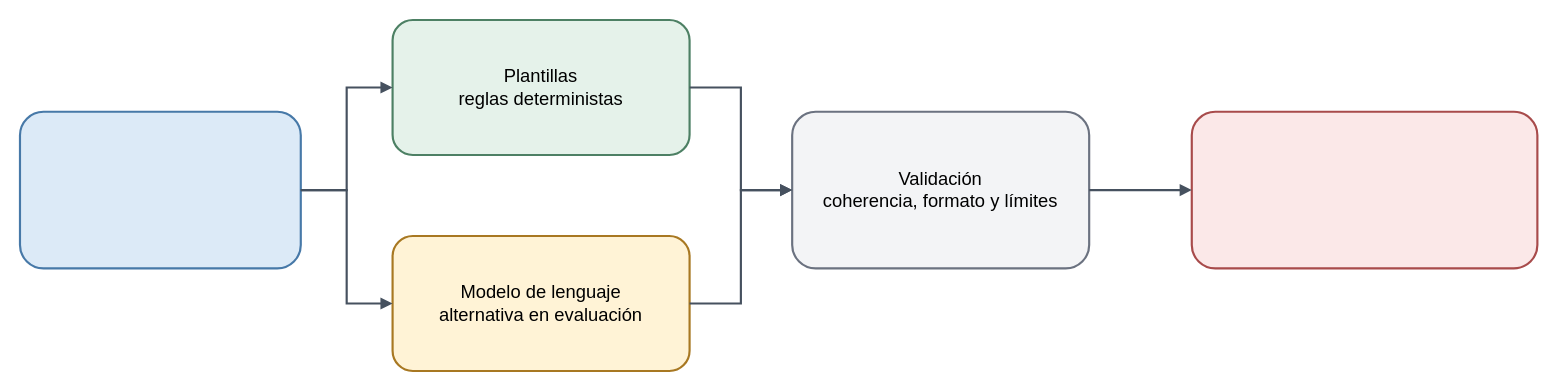
The diagram is 1556 pixels wide and 390 high, and some of its shapes have lost their labels. The centre of each missing label's shape, as x and y in pixels:
Hallazgos estructurados tiempo, tipo, severidad y evidencia: the point at 159,189
Retroalimentación final qué, dónde y orientación: the point at 1364,189
